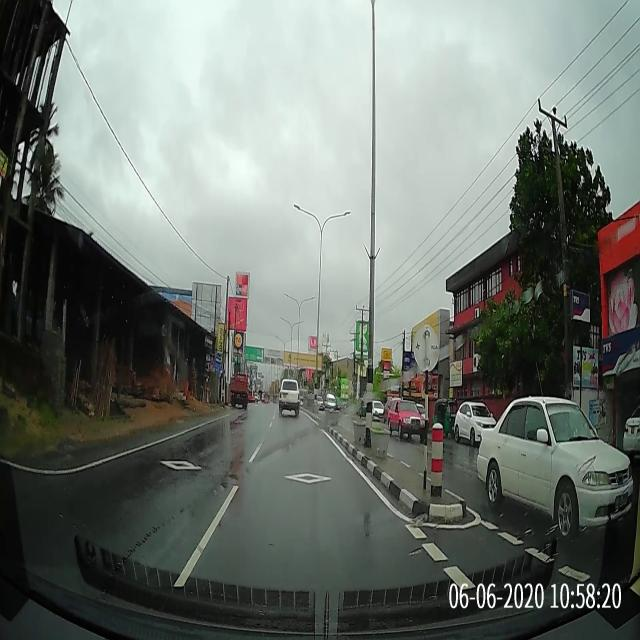diamond: (230, 455, 379, 488)
